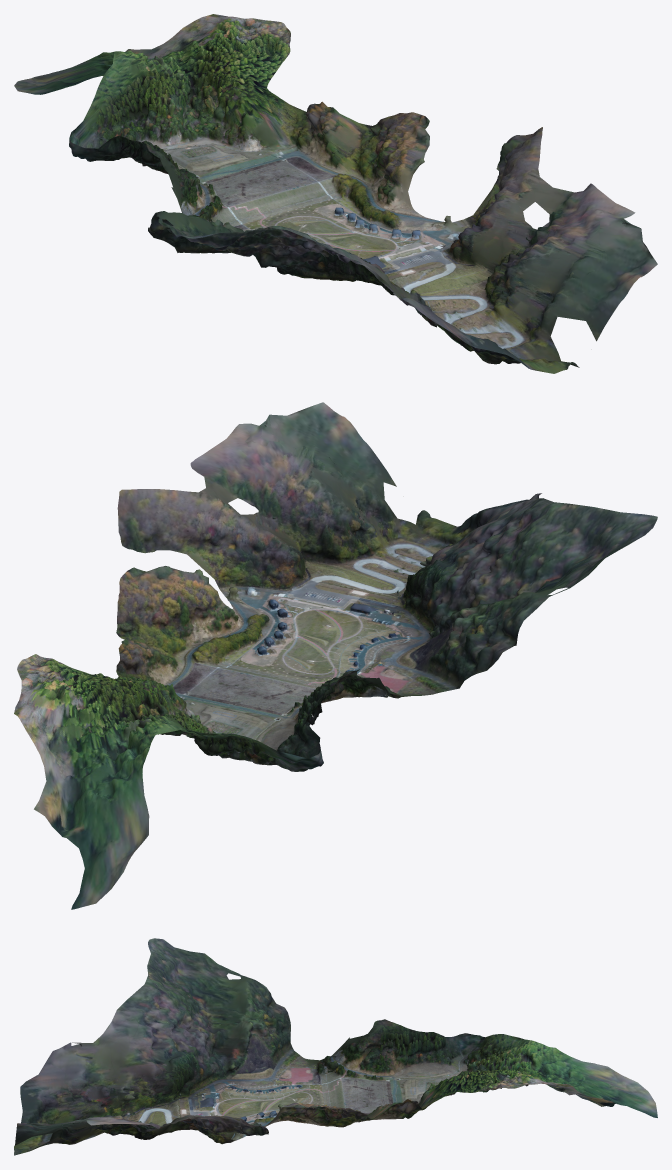
The model's file is sanzakumagawa.glb.
3 views of the same model, one above another, from view 1: azimuth 30°, elevation 25°; view 2: azimuth 150°, elevation 25°; view 3: azimuth 270°, elevation 25° (orthographic). The views are drawn at different scales.
Visible parts, largest first — view 1: ObjectCapture; view 2: ObjectCapture; view 3: ObjectCapture.
Part boxes in pixels (bbox=[...]): ObjectCapture: bbox=[14, 14, 657, 373]; ObjectCapture: bbox=[14, 402, 657, 909]; ObjectCapture: bbox=[14, 938, 657, 1155].
Size of the model in its own units: 3.29 by 1.1 by 5.76.
Materials: 1 (1 with a texture image).
